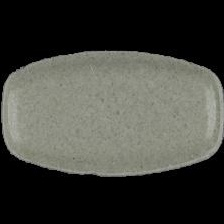59148-006: (0, 0, 224, 224)
